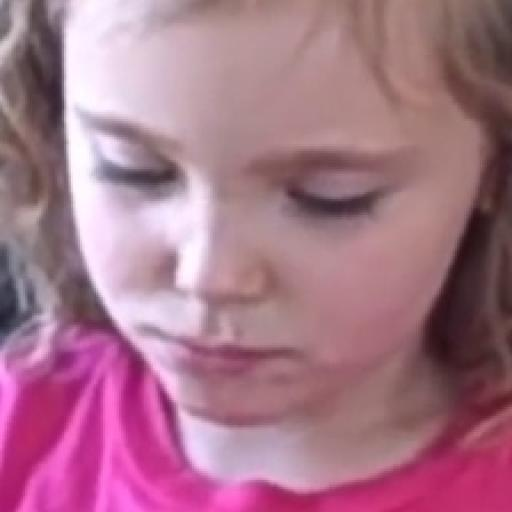Autism: (64, 0, 512, 453)
